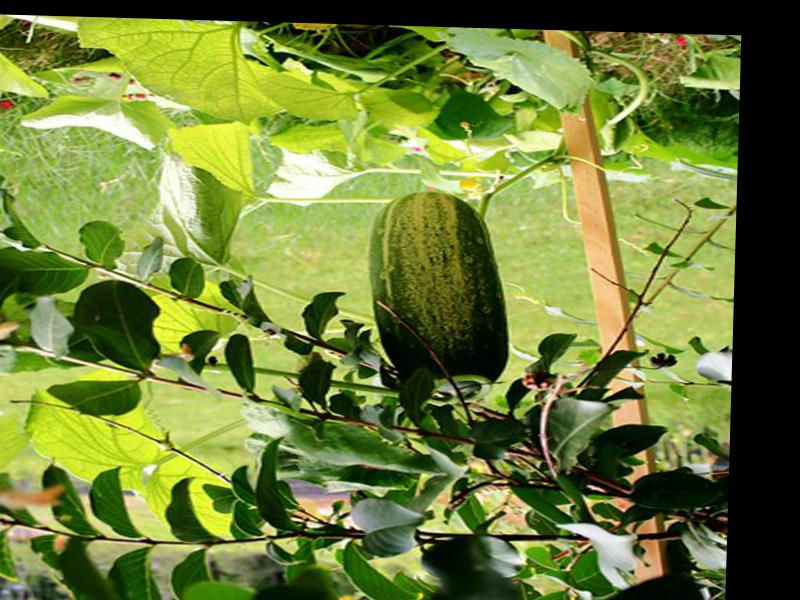Cucumber: (368, 189, 515, 405)
